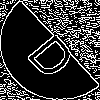D: (24, 25, 86, 82)
